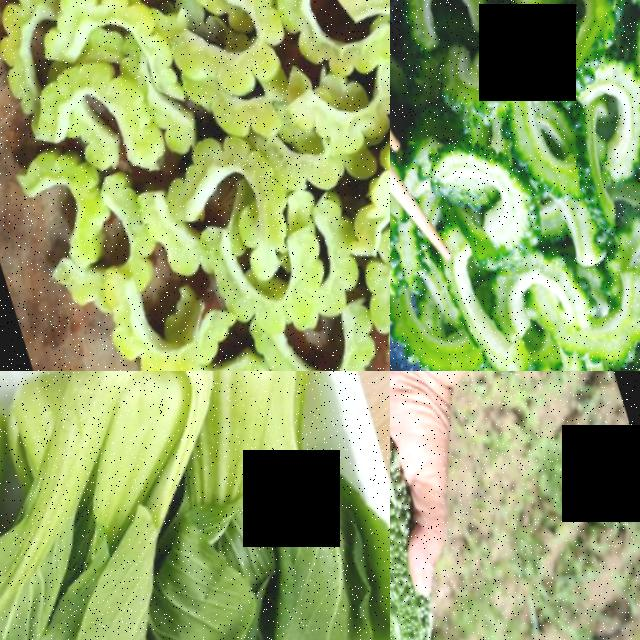bitter gourd: (418, 196, 640, 371), (390, 408, 462, 640)
bok choy: (114, 371, 390, 640), (0, 371, 228, 640)
